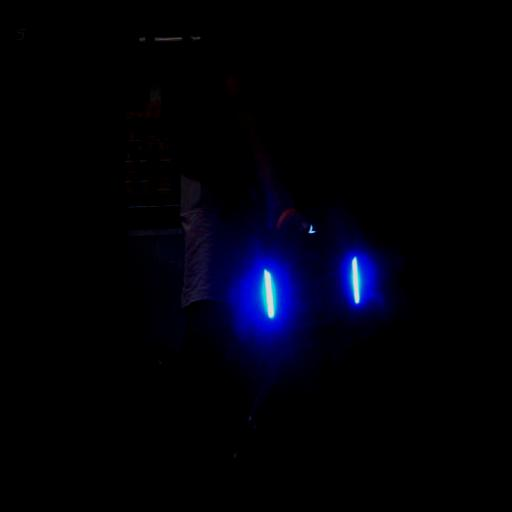target: (258, 237, 369, 340)
